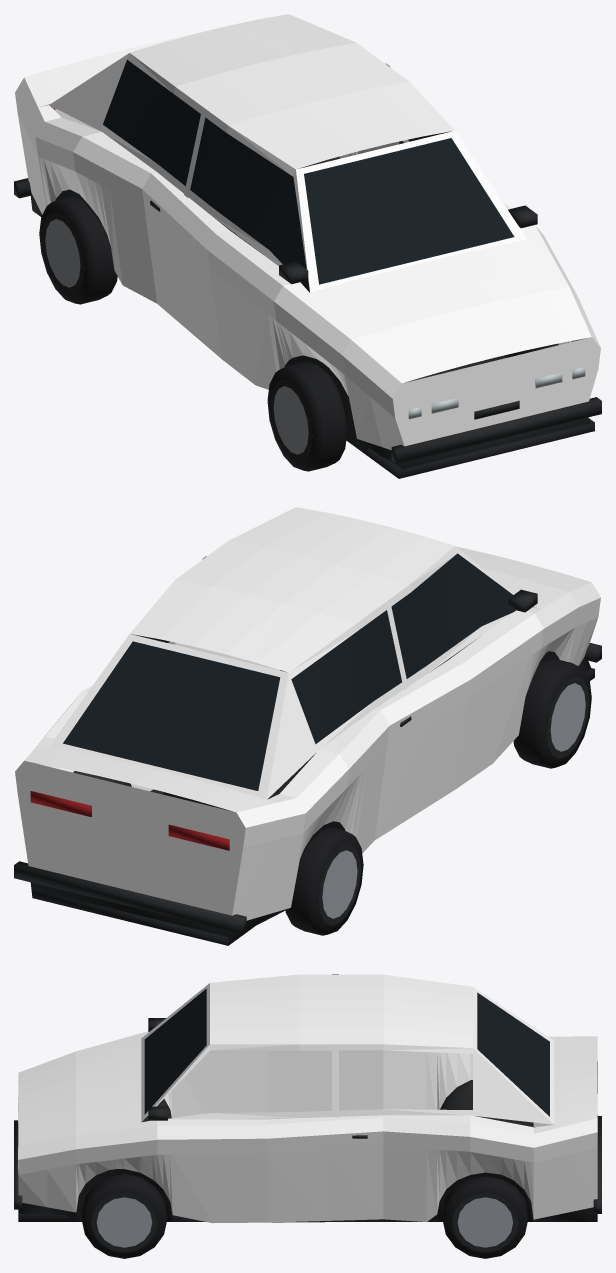
Rendered from feldhaus_riacho.glb.
The picture shows the model from 3 angles, top to bottom: view 1: azimuth 30°, elevation 25°; view 2: azimuth 150°, elevation 25°; view 3: azimuth 270°, elevation 25°; orthographic projection. The views are drawn at different scales.
Visible parts, largest first — view 1: Body_Paint, Body_Details, Mount_FrontLeft_Wheel_Details, Mount_RearLeft_Wheel_Details; view 2: Body_Paint, Body_Details, Mount_FrontLeft_Wheel_Details, Mount_RearLeft_Wheel_Details; view 3: Body_Paint, Body_Details, Mount_FrontRight_Wheel_Details, Mount_RearRight_Wheel_Details.
Boxes of the visible parts, x1,y1,x2,y2 form: Body_Paint: (15, 14, 600, 450); Body_Details: (14, 59, 601, 478); Mount_FrontLeft_Wheel_Details: (267, 361, 347, 471); Mount_RearLeft_Wheel_Details: (39, 195, 117, 304); Body_Paint: (15, 507, 600, 920); Body_Details: (14, 553, 601, 945); Mount_FrontLeft_Wheel_Details: (513, 658, 591, 768); Mount_RearLeft_Wheel_Details: (285, 827, 363, 935); Body_Paint: (18, 974, 597, 1223); Body_Details: (14, 988, 601, 1222); Mount_FrontRight_Wheel_Details: (81, 1174, 167, 1258); Mount_RearRight_Wheel_Details: (442, 1176, 528, 1258).
Size of the model in its own units: 1.65 by 1.45 by 3.85.
2 materials, 1 textured.
